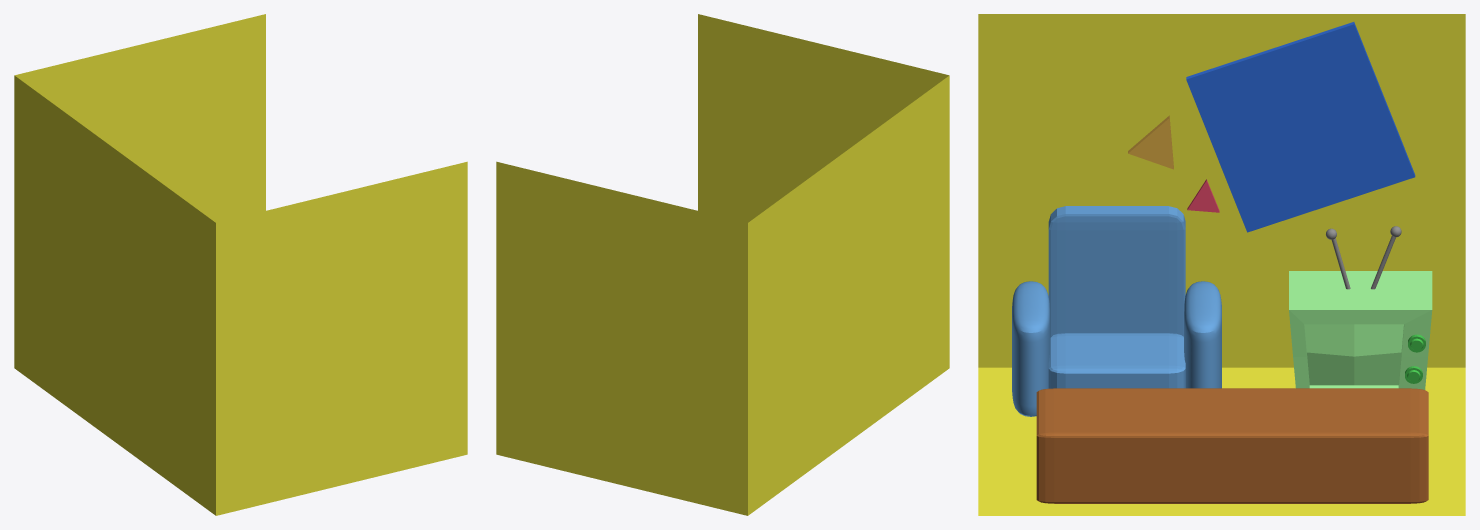
File: sala_mesa.glb
The picture shows the model from 3 angles, left to right: view 1: azimuth 30°, elevation 25°; view 2: azimuth 150°, elevation 25°; view 3: azimuth 270°, elevation 25°; orthographic projection. The views are drawn at different scales.
Visible parts, largest first — view 1: Nivel2; view 2: Nivel2; view 3: Nivel2.
Part boxes in pixels (x1=…): Nivel2: x1=14, y1=14, x2=467, y2=515; Nivel2: x1=496, y1=14, x2=949, y2=515; Nivel2: x1=978, y1=14, x2=1465, y2=515.
Size of the model in its own units: 12.83 by 14.28 by 17.82.
